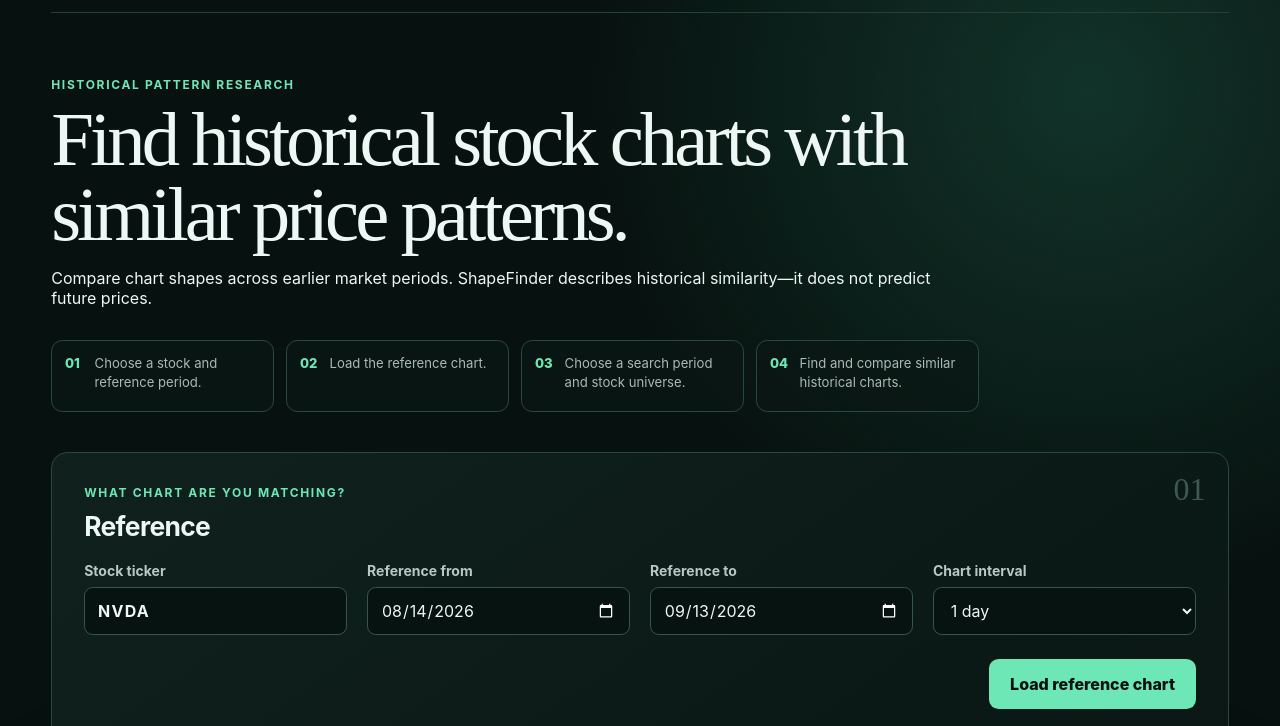
Test: reference workflow › maps reference INVALID_SYMBOL safely
Type "2025-01-01" into the date field labelled "Reference from" at (499, 611), box [367, 587, 630, 635]
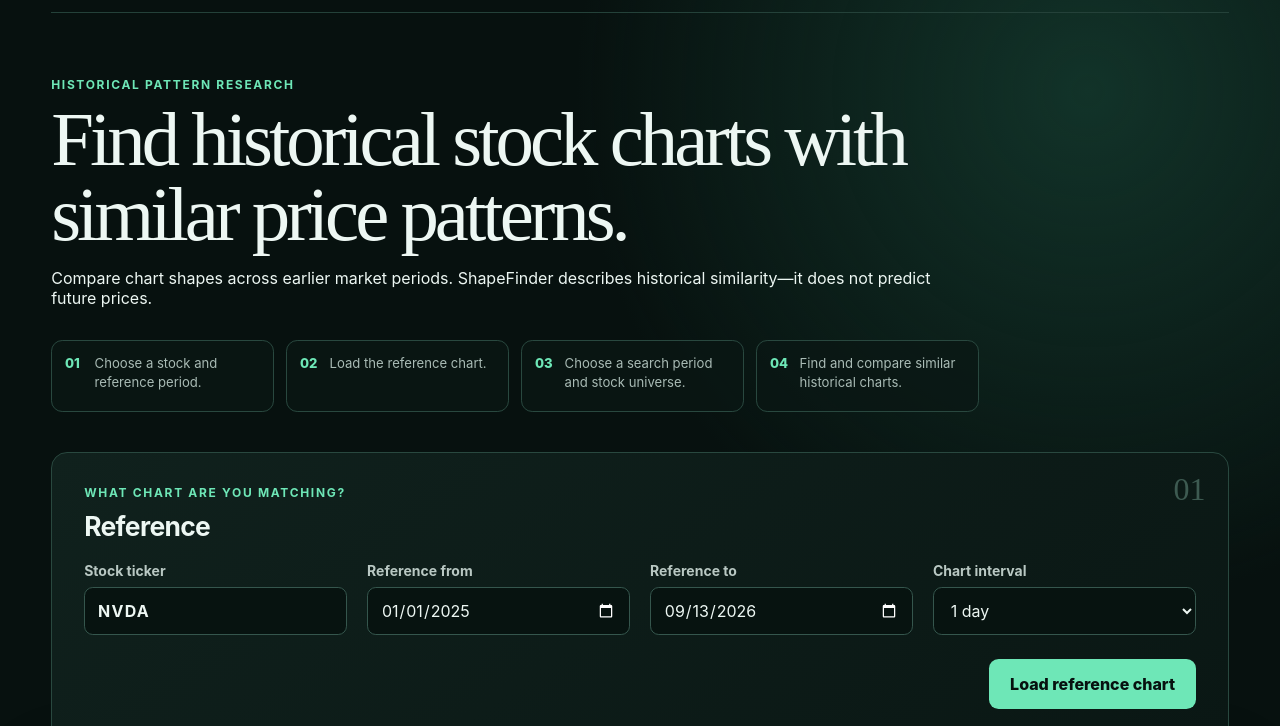
Type "2025-01-04" into the date field labelled "Reference to" at (781, 611), box [650, 587, 913, 635]
(page scrolled)
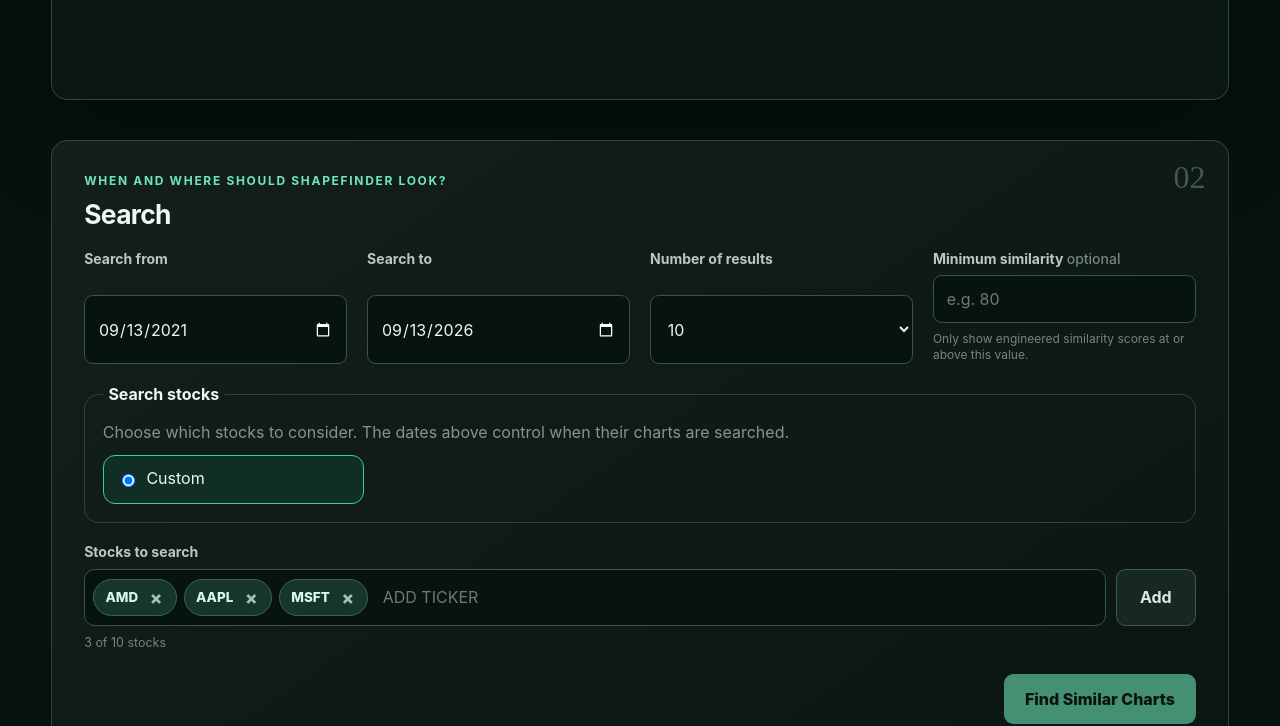
Type "2020-01-01" into the date field labelled "Search from" at (216, 330), box [84, 296, 347, 364]
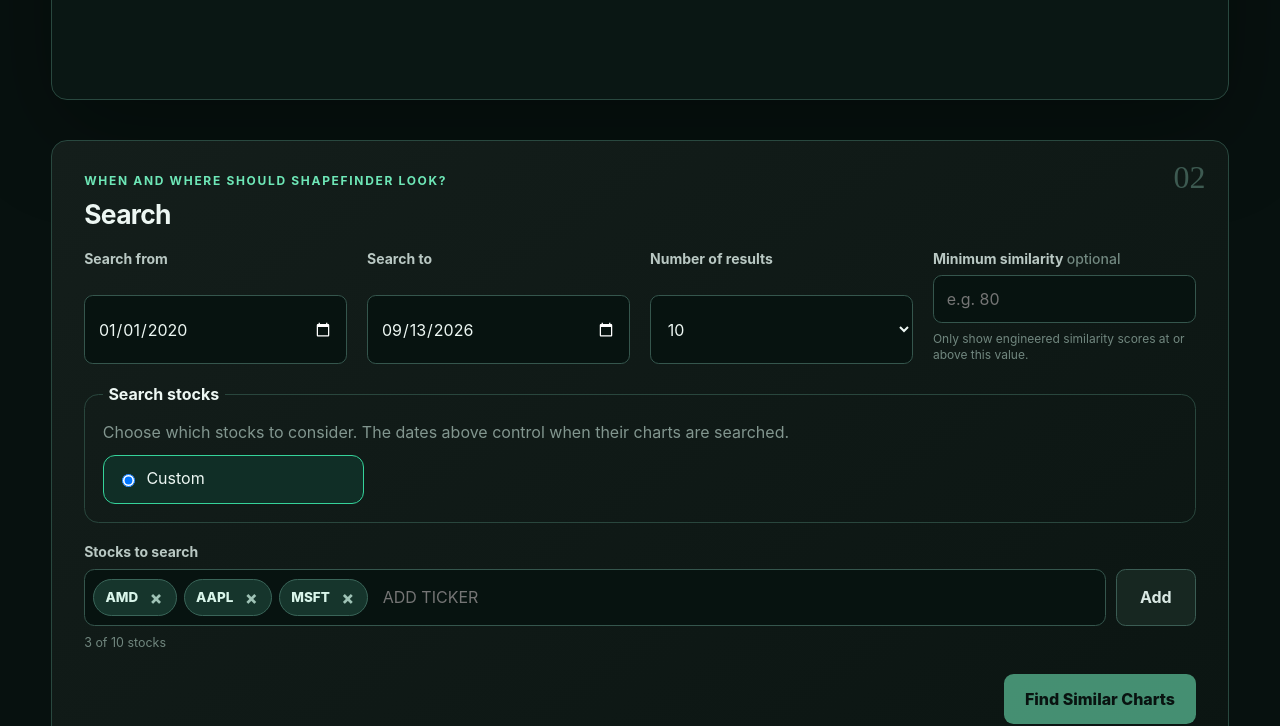
Type "2025-01-04" into the date field labelled "Search to" at (499, 330), box [367, 296, 630, 364]
(page scrolled)
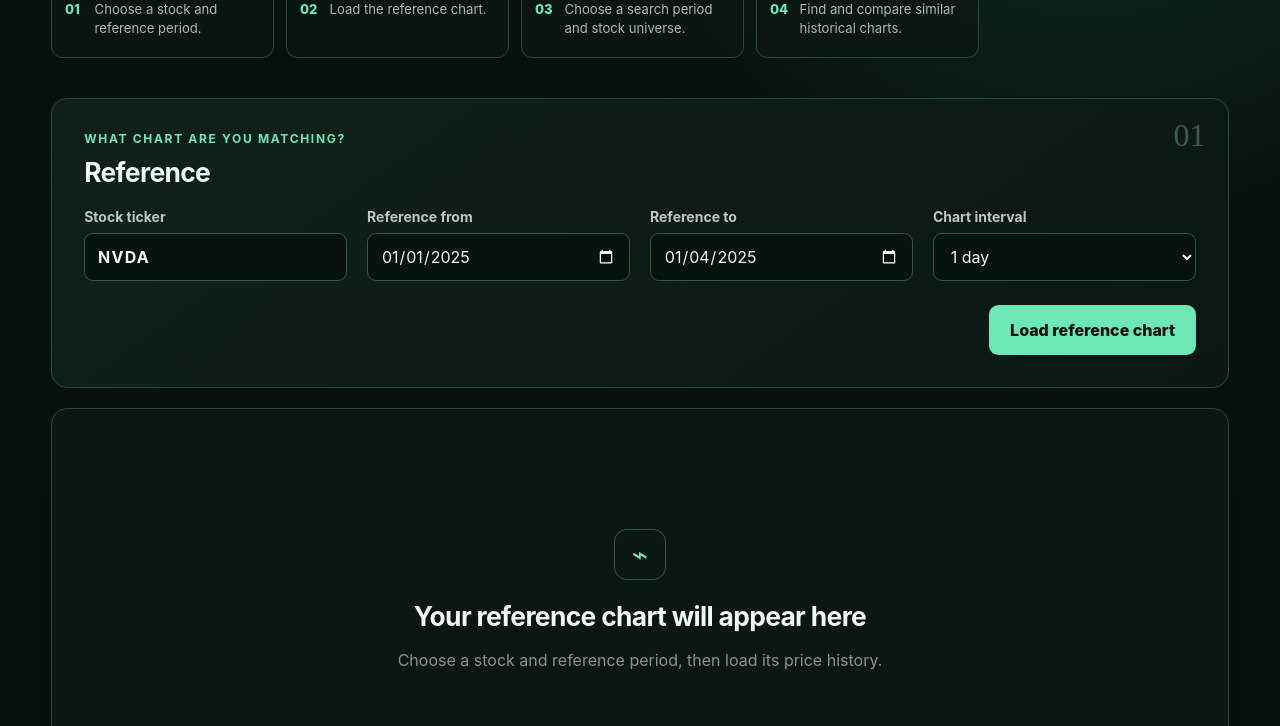
Click the button "Load reference chart" at (1093, 330), box [989, 305, 1196, 355]
(page scrolled)
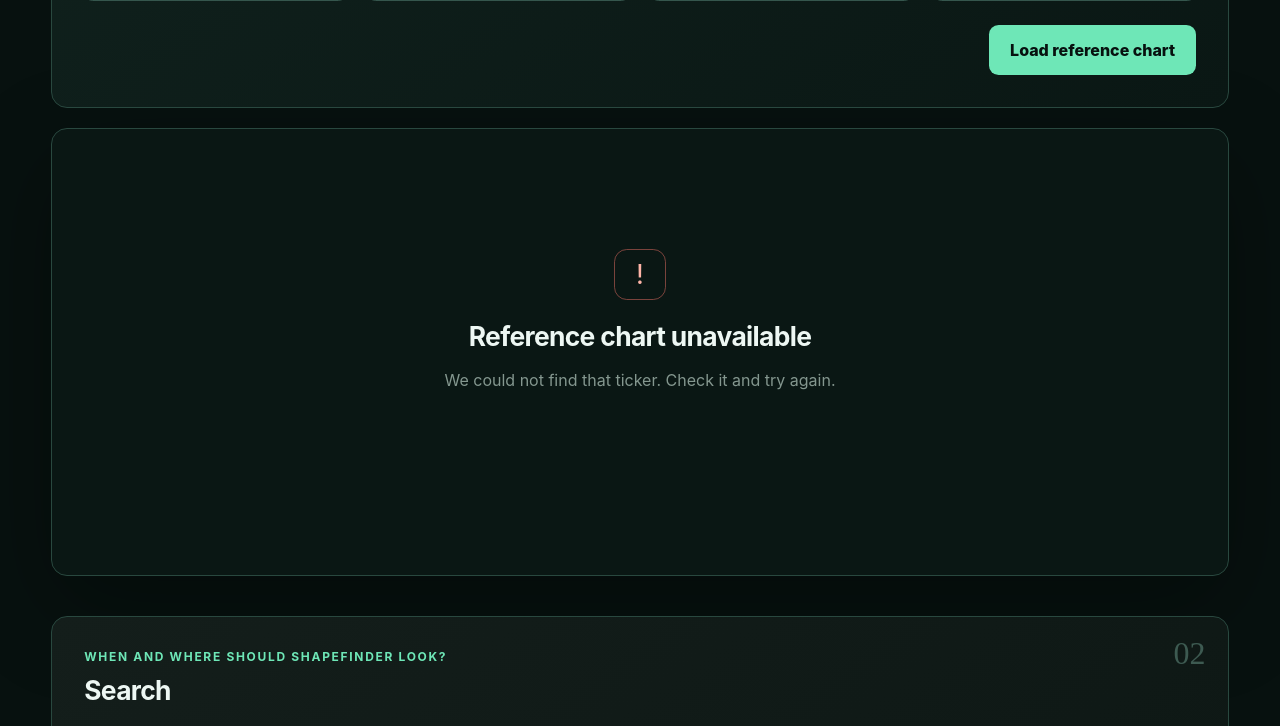
Check: the message shows "could not find that ticker", box [444, 370, 836, 390]
